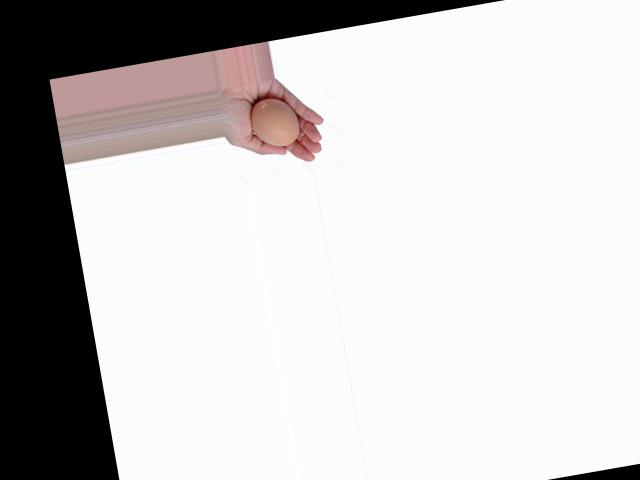egg: (248, 94, 303, 150)
